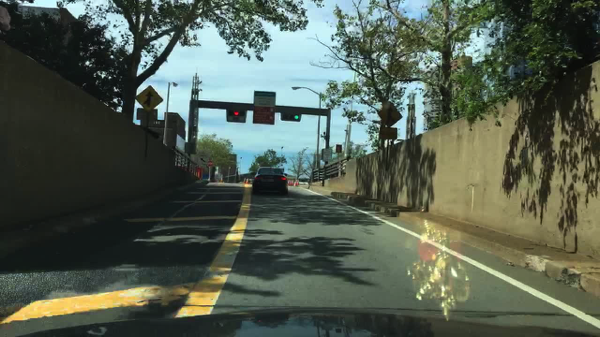car: (250, 165, 289, 197)
traffic light: (226, 110, 247, 123), (279, 112, 302, 122)
traffic sign: (135, 86, 163, 111), (376, 103, 403, 127), (253, 90, 275, 106), (253, 108, 275, 124), (137, 109, 158, 121), (378, 127, 396, 138), (323, 149, 332, 162), (198, 155, 206, 164), (206, 161, 212, 168), (336, 146, 341, 153)
